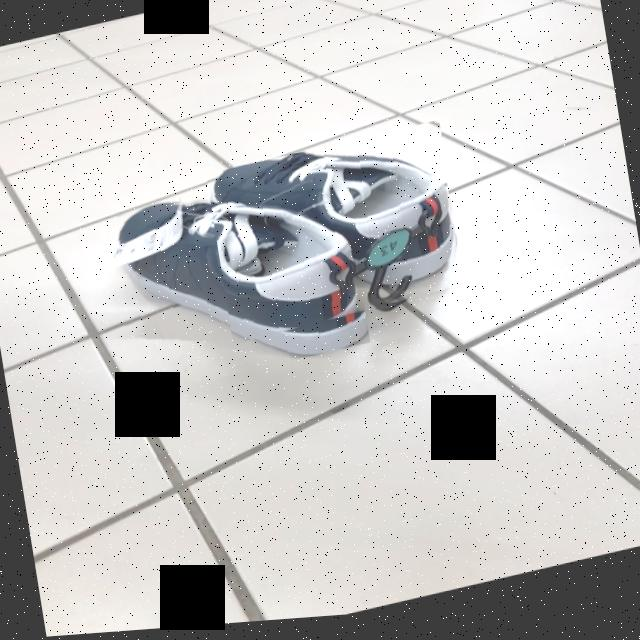shoe: (111, 207, 369, 363), (210, 158, 455, 314)
